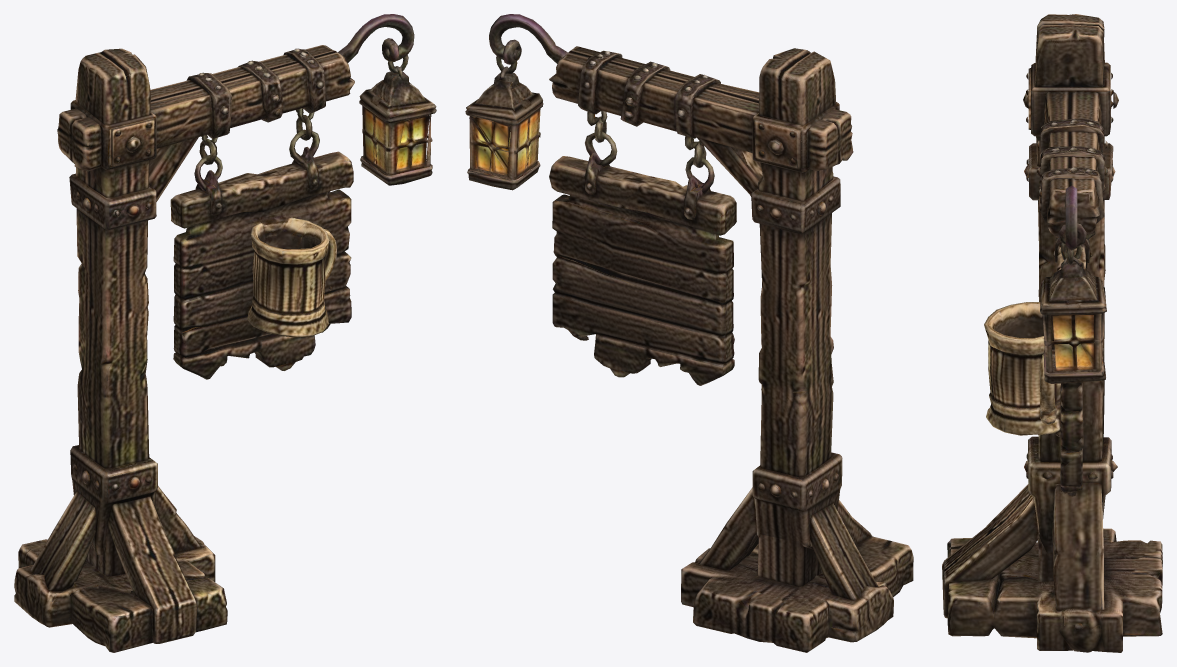
File: shop_sign.glb
3 views of the same model, side by side, from view 1: azimuth 30°, elevation 25°; view 2: azimuth 150°, elevation 25°; view 3: azimuth 270°, elevation 25° (orthographic). The views are drawn at different scales.
Parts seen in each view (by area): view 1: Mesh_0; view 2: Mesh_0; view 3: Mesh_0.
Boxes of the visible parts, x1,y1,x2,y2 form: Mesh_0: [14, 14, 436, 652]; Mesh_0: [465, 14, 913, 652]; Mesh_0: [942, 14, 1162, 652].
Size of the model in its own units: 0.7241 by 0.9536 by 0.3267.
1 material, 1 textured.
